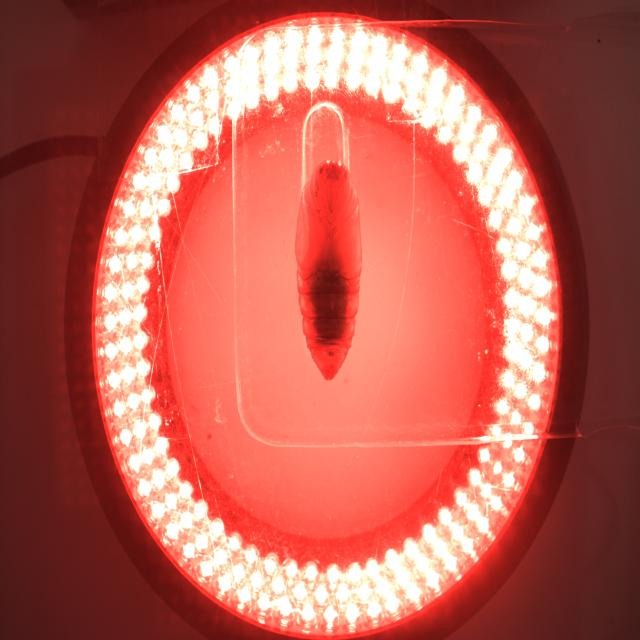male: (322, 349, 340, 360)
